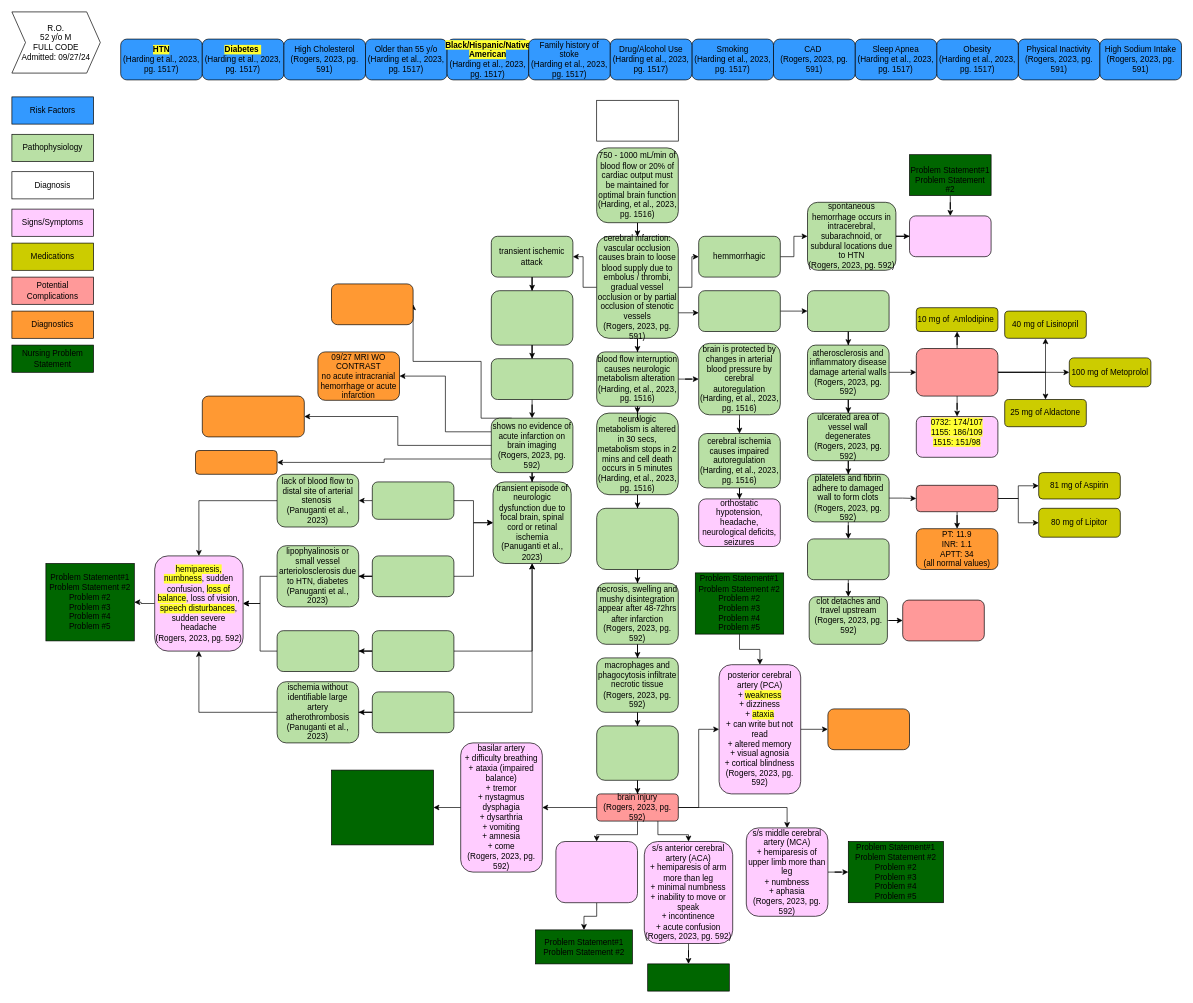
This 1193x1003 diagram has some shape labels left out. Here are the shapes that lost their labels. From the top down, the centre of each, then its label:
[637,120]: RIGHT HEMIPLEGIA
[950,236]: severe headache, unconsciousness (Rogers, 2023, pg. 592)
[372,304]: 09/27 VAS CAROTID DUPLEX no stenosis
[532,317]: temporary arterial obstruction of brain blood flow (Rogers, 2023, pg. 592)
[739,311]: ischemic
[848,311]: thrombotic stroke (Rogers, 2023, pg. 592)
[532,379]: episodes that last less than 24 hours (Rogers, 2023, pg. 592)
[957,372]: prolonged vasoconstriction from HTN (Rogers, 2023, pg. 592)
[253,416]: 09/27 CTA HEAD+ NECK no evidence of acute intracranial abnormality
[236,462]: 09/27 ECHO EF: 65-70%
[413,500]: large artery thrombosis (Panuganti et al., 2023)
[957,498]: increased coagulation (Rogers, 2023, pg. 592)
[637,539]: affected area becomes pale and softens after occlusion (Rogers, 2023, pg. 592)
[848,559]: artery is occluded (Rogers, 2023, pg. 592)
[413,576]: small vessel ischemic disease (Panuganti et al., 2023)
[943,620]: embolic stroke (Rogers, 2023, pg. 592)
[317,651]: clot in cardiac chamber due to afib (Panuganti et al., 2023)
[413,651]: cardiac embolism (Panuganti et al., 2023)
[413,712]: cryptogenic (Panuganti et al., 2023)
[868,729]: MRI in 2021 shows left PCA
[637,752]: cavity in brain is filled with glial scarring (Rogers, 2023, pg. 592)
[382,807]: Problem Statement #2 Problem #2 Problem #3 Problem #4 Problem #5
[596,872]: cerebellar artery + ataxia + vertigo + headache + n/v + slurred speech
[688,977]: Problem #3
